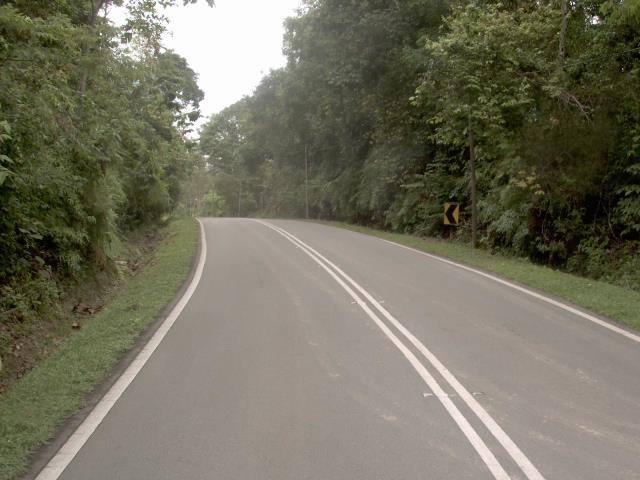traffic_sign: (437, 197, 463, 234)
